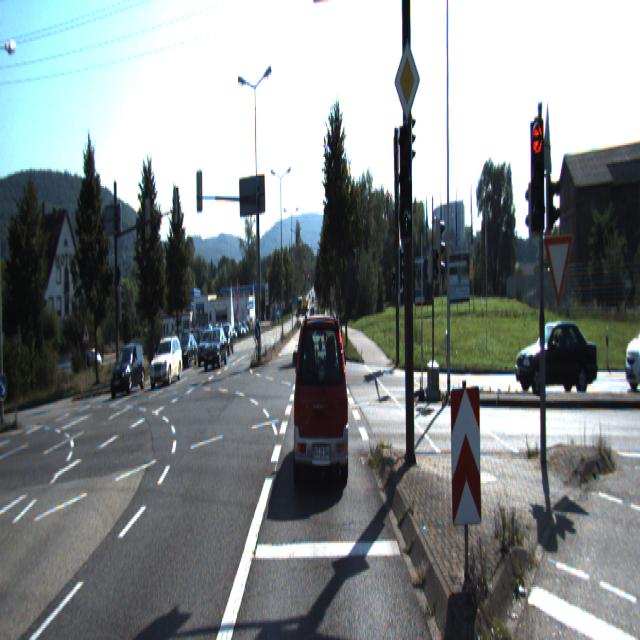Car: (293, 311, 349, 488), (514, 311, 598, 396), (110, 345, 146, 396), (149, 339, 183, 388), (623, 309, 639, 391), (202, 329, 227, 371)
